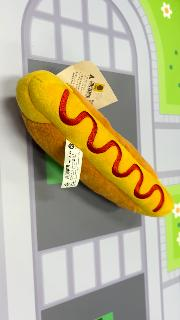hotdog: (16, 70, 174, 218)
